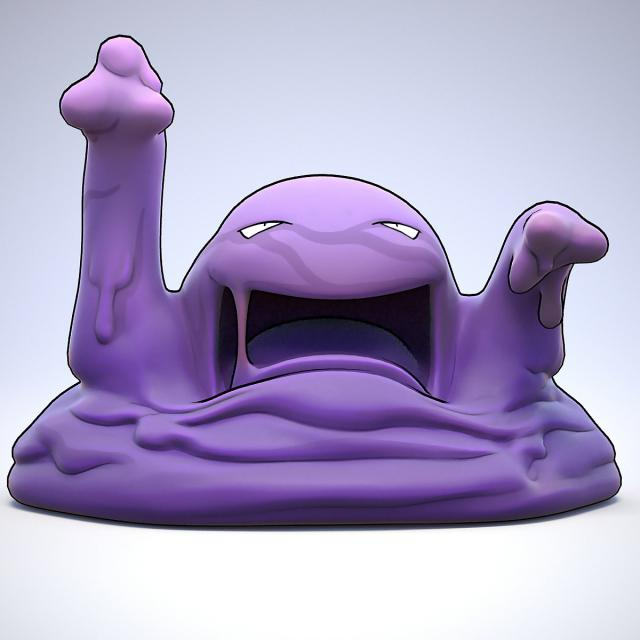Muk: (69, 176, 569, 524)
